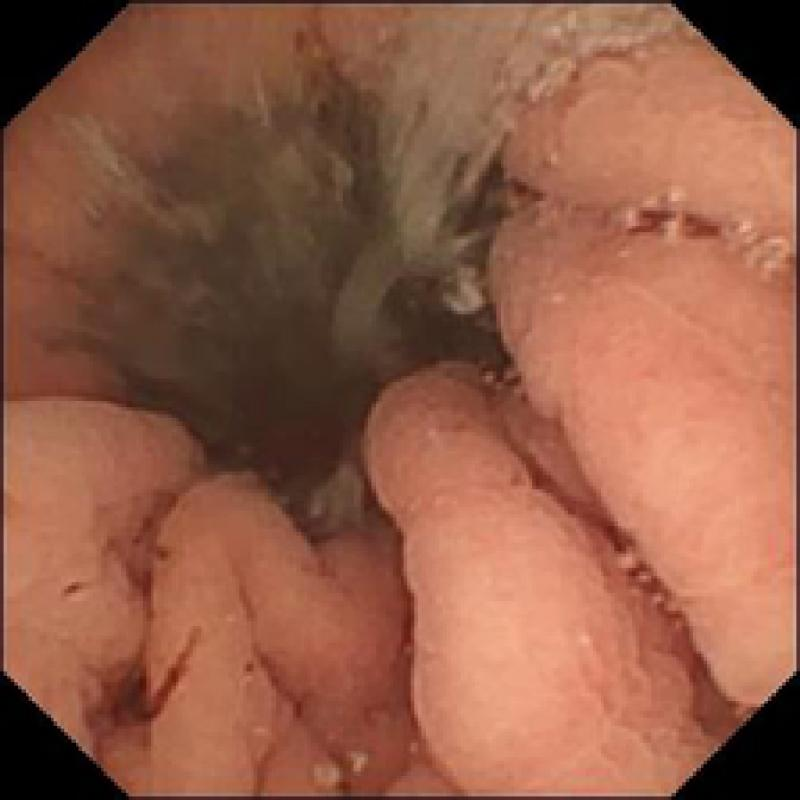bleeding: (93, 621, 196, 743)
